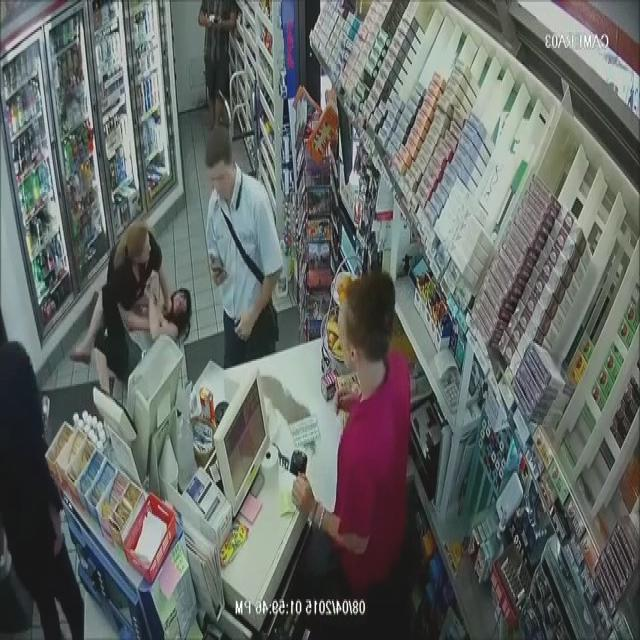fight: (72, 220, 192, 372)
